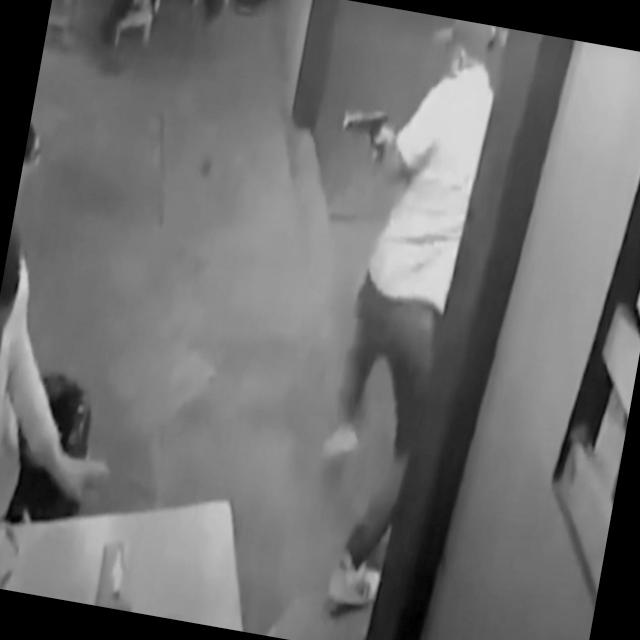gun: (337, 100, 393, 168)
person with a gun: (260, 3, 507, 622)
